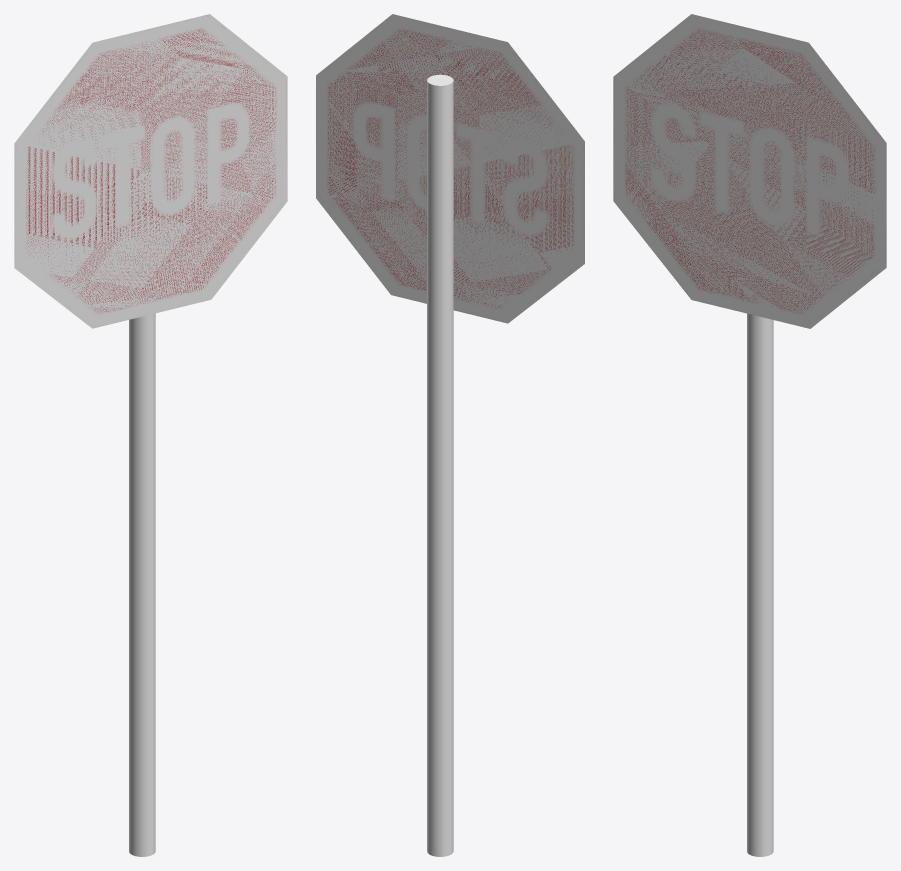
3 views of the same model, side by side, from view 1: azimuth 30°, elevation 25°; view 2: azimuth 150°, elevation 25°; view 3: azimuth 330°, elevation 25° (orthographic).
Visible parts, largest first — view 1: SketchUp (×2); view 2: SketchUp (×2); view 3: SketchUp (×2).
Boxes of the visible parts, bbox=[...] form: SketchUp (×2): bbox=[14, 14, 287, 856]; SketchUp (×2): bbox=[316, 14, 584, 856]; SketchUp (×2): bbox=[613, 14, 886, 856].
Bounding box in the file's own units: 74.02 × 7.6 × 215.
Materials: 2 (1 with a texture image).
